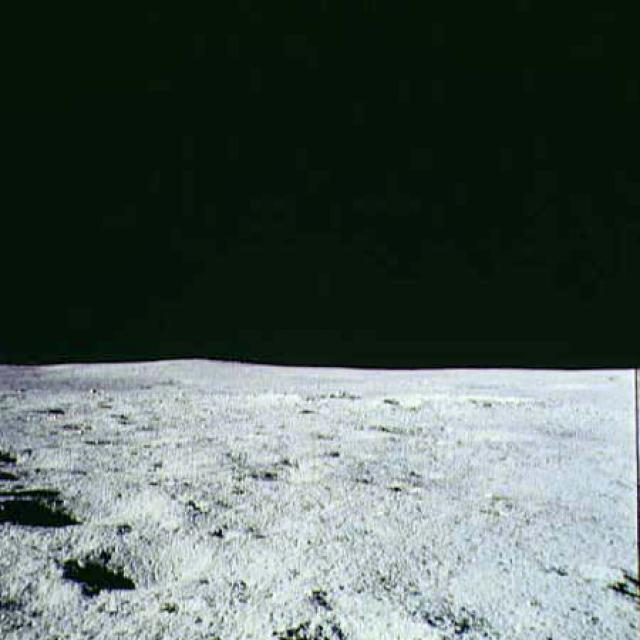crater: (47, 515, 219, 606), (0, 467, 192, 534), (228, 453, 322, 490), (539, 552, 633, 589)
